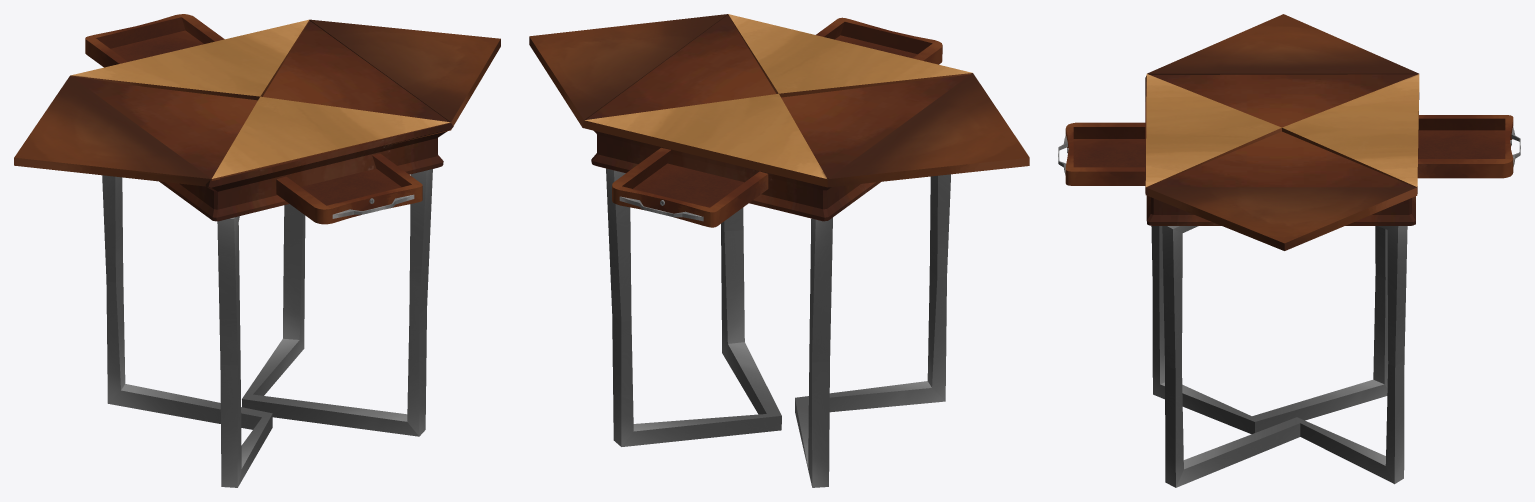
File: table_fbx.fbx
3 views of the same model, side by side, from view 1: azimuth 30°, elevation 25°; view 2: azimuth 150°, elevation 25°; view 3: azimuth 270°, elevation 25° (orthographic). The views are drawn at different scales.
Visible parts, largest first — view 1: table_top, table_legs1, polySurface20, drawers; view 2: table_top, table_legs1, polySurface20, drawers; view 3: table_top, table_legs1, polySurface20, drawers.
Part boxes in pixels (x1=…): table_top: x1=14, y1=19, x2=500, y2=186; table_legs1: x1=102, y1=169, x2=432, y2=487; polySurface20: x1=72, y1=21, x2=453, y2=221; drawers: x1=85, y1=14, x2=422, y2=224; table_top: x1=529, y1=14, x2=1029, y2=187; table_legs1: x1=606, y1=168, x2=950, y2=487; polySurface20: x1=586, y1=15, x2=969, y2=221; drawers: x1=612, y1=17, x2=942, y2=227; table_top: x1=1145, y1=14, x2=1419, y2=250; table_legs1: x1=1151, y1=226, x2=1407, y2=487; polySurface20: x1=1145, y1=74, x2=1416, y2=225; drawers: x1=1058, y1=115, x2=1520, y2=185.
Size of the model in its own units: 6.3 by 3.96 by 5.38.
